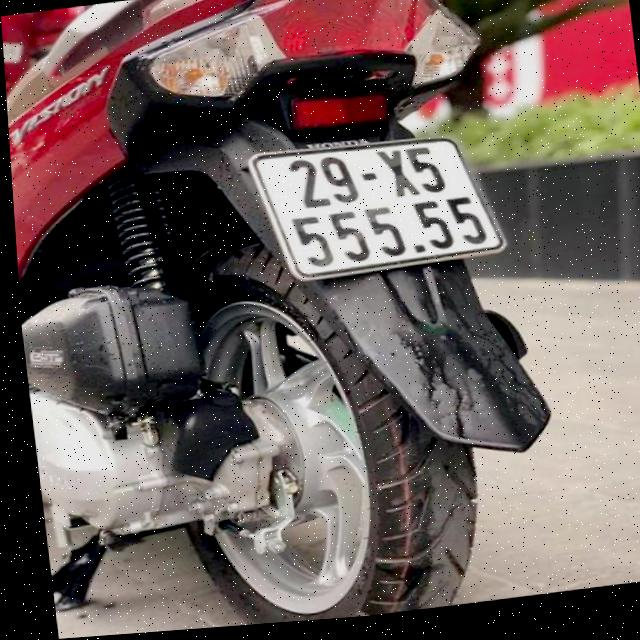motorcycle: (0, 0, 592, 640)
plate: (248, 123, 506, 292)
